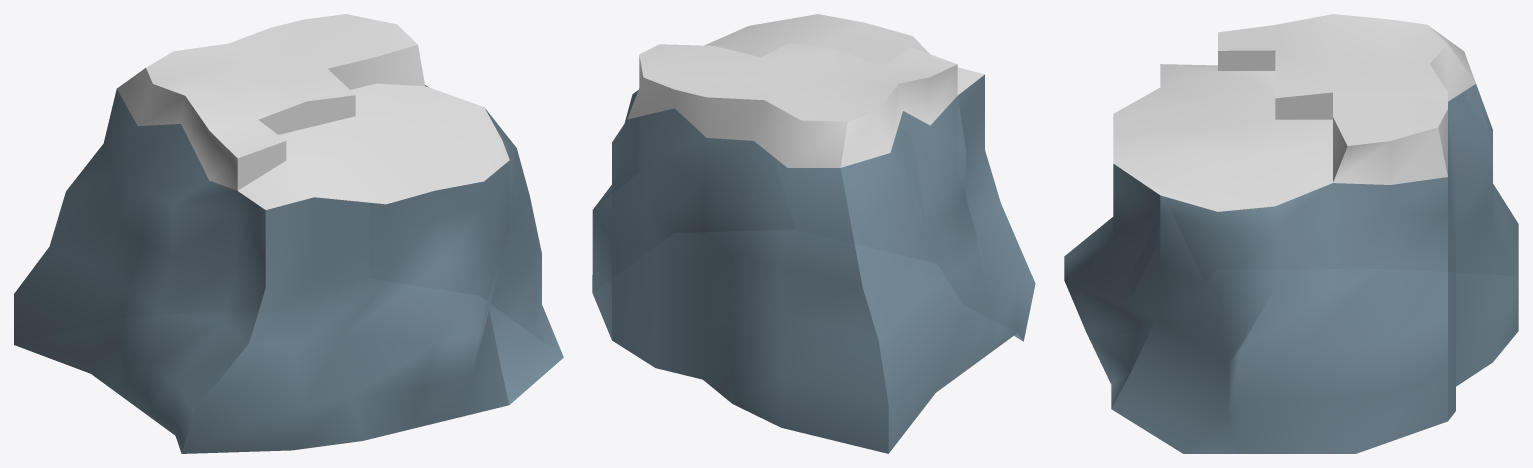
Rendered from glacier1.fbx.
3 views of the same model, side by side, from view 1: azimuth 30°, elevation 25°; view 2: azimuth 150°, elevation 25°; view 3: azimuth 270°, elevation 25° (orthographic). The views are drawn at different scales.
Visible parts, largest first — view 1: pCube2; view 2: pCube2; view 3: pCube2.
Boxes of the visible parts, <box> form: pCube2: <box>14,14,563,453</box>; pCube2: <box>592,14,1035,453</box>; pCube2: <box>1064,14,1518,453</box>.
Size of the model in its own units: 7.9 by 5.79 by 7.9.
